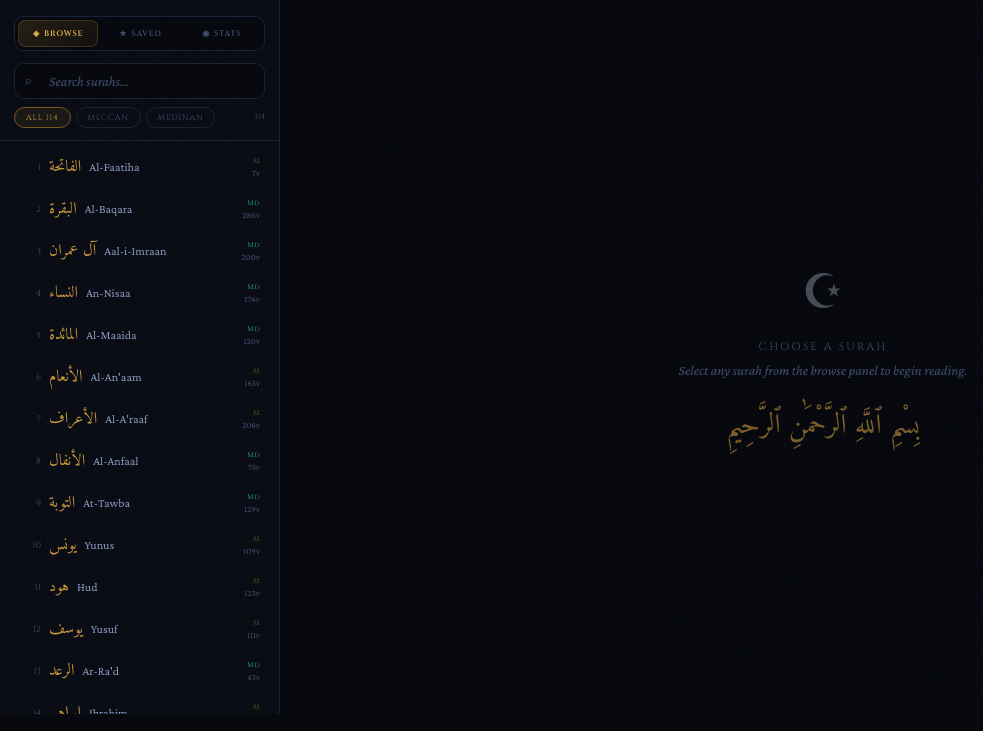
Test: QuranReader — browse, search, filter › Medinan filter count = 28
The image size is (983, 731).
Click the button with class "filter-chip" showing "Medinan".
click(181, 118)  # box [146, 107, 215, 128]
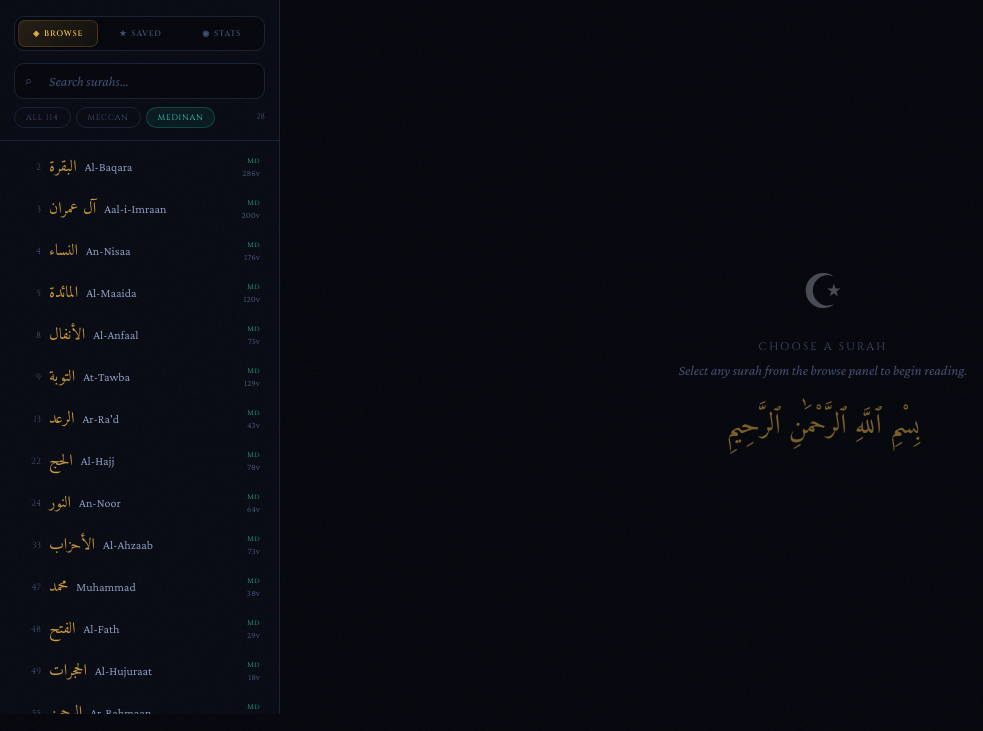
expect the text with class "filter-count" reads "28": met, box [256, 111, 265, 122]
